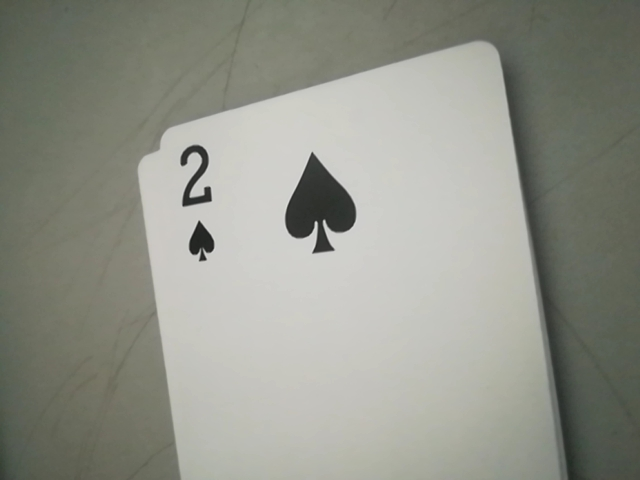ht 2: (159, 131, 244, 266)
